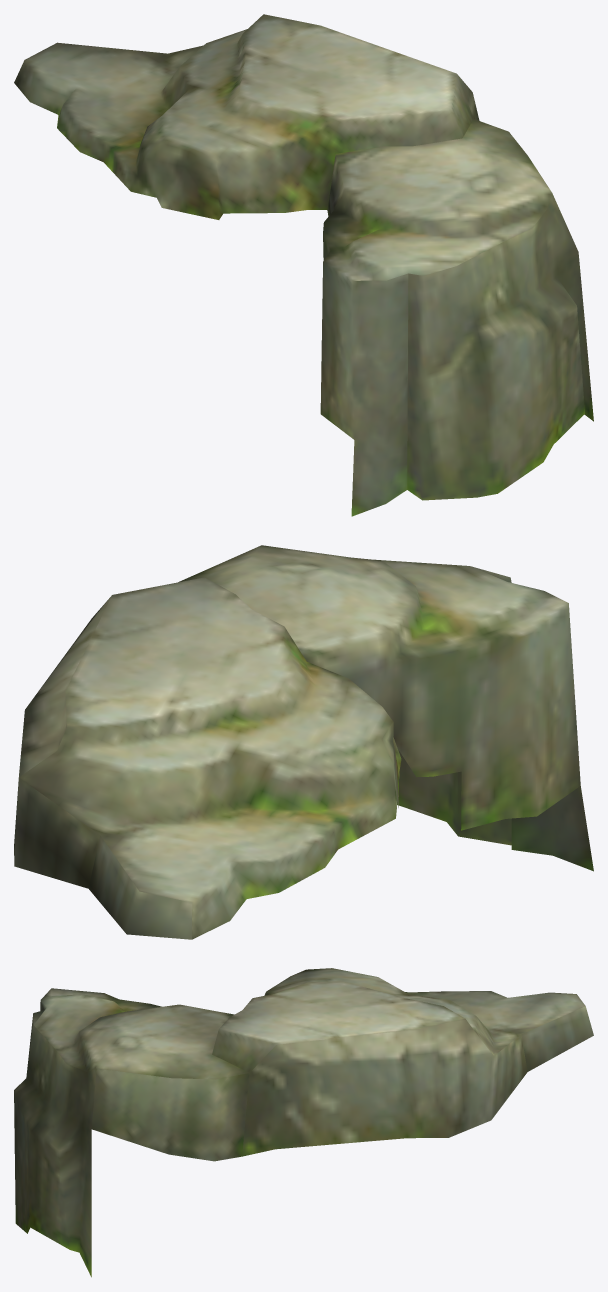
File: S_Rock_Green050_1060_2.fbx
3 views of the same model, one above another, from view 1: azimuth 30°, elevation 25°; view 2: azimuth 150°, elevation 25°; view 3: azimuth 270°, elevation 25° (orthographic). The views are drawn at different scales.
Visible parts, largest first — view 1: S_Rock_Green050_1060_2; view 2: S_Rock_Green050_1060_2; view 3: S_Rock_Green050_1060_2.
Part boxes in pixels (box(x1,y1,x2,y2)): S_Rock_Green050_1060_2: box(14, 14, 593, 516); S_Rock_Green050_1060_2: box(14, 545, 593, 939); S_Rock_Green050_1060_2: box(14, 968, 593, 1277).
Size of the model in its own units: 824 by 673 by 1544.
1 material, 1 textured.
